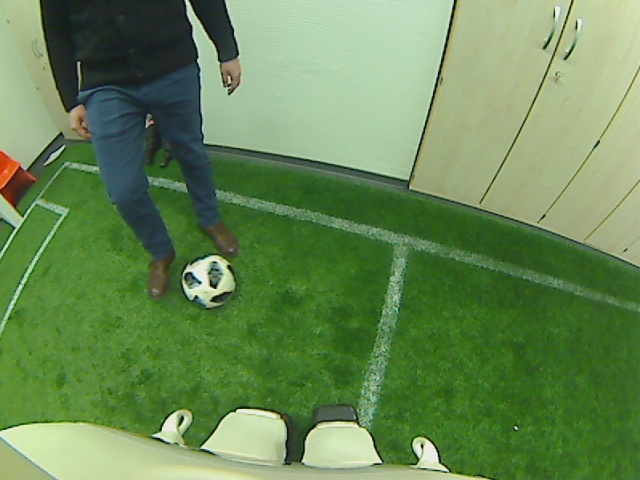ball: (179, 253, 238, 309)
